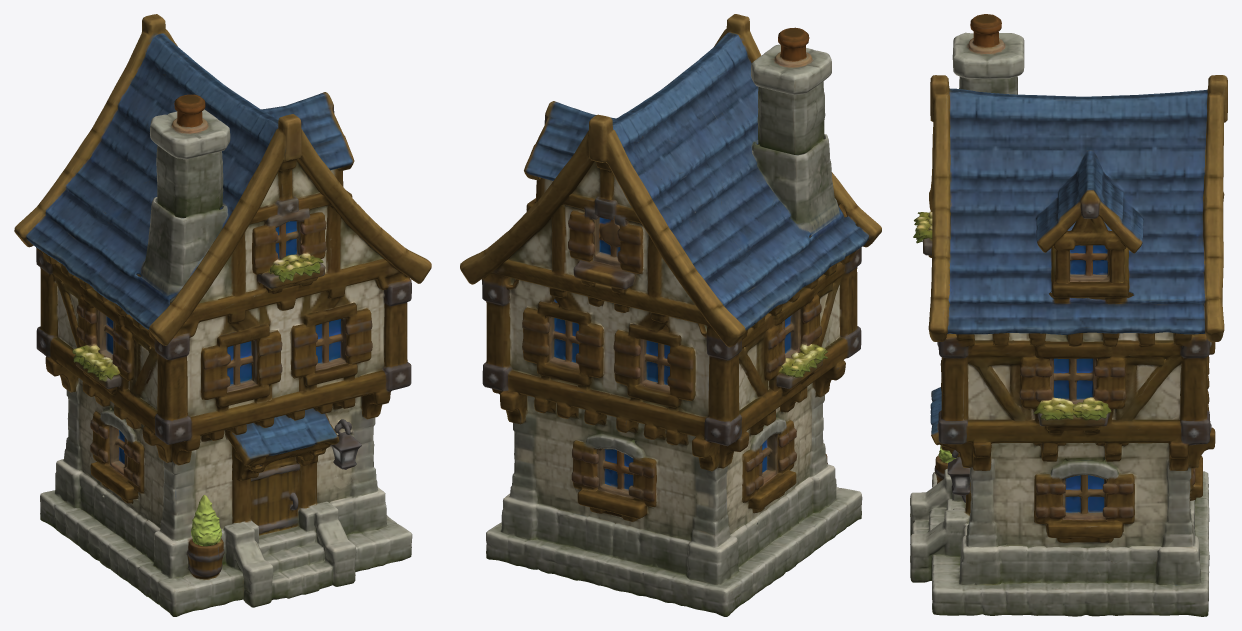
The model's file is sample_2026-06-30T194529.012.glb.
3 views of the same model, side by side, from view 1: azimuth 30°, elevation 25°; view 2: azimuth 150°, elevation 25°; view 3: azimuth 270°, elevation 25° (orthographic). The views are drawn at different scales.
Parts seen in each view (by area): view 1: world; view 2: world; view 3: world.
Boxes of the visible parts, <box> form: world: <box>14,14,431,616</box>; world: <box>460,14,881,616</box>; world: <box>910,14,1227,616</box>.
Size of the model in its own units: 0.6021 by 1 by 0.5777.
Materials: 1 (1 with a texture image).
